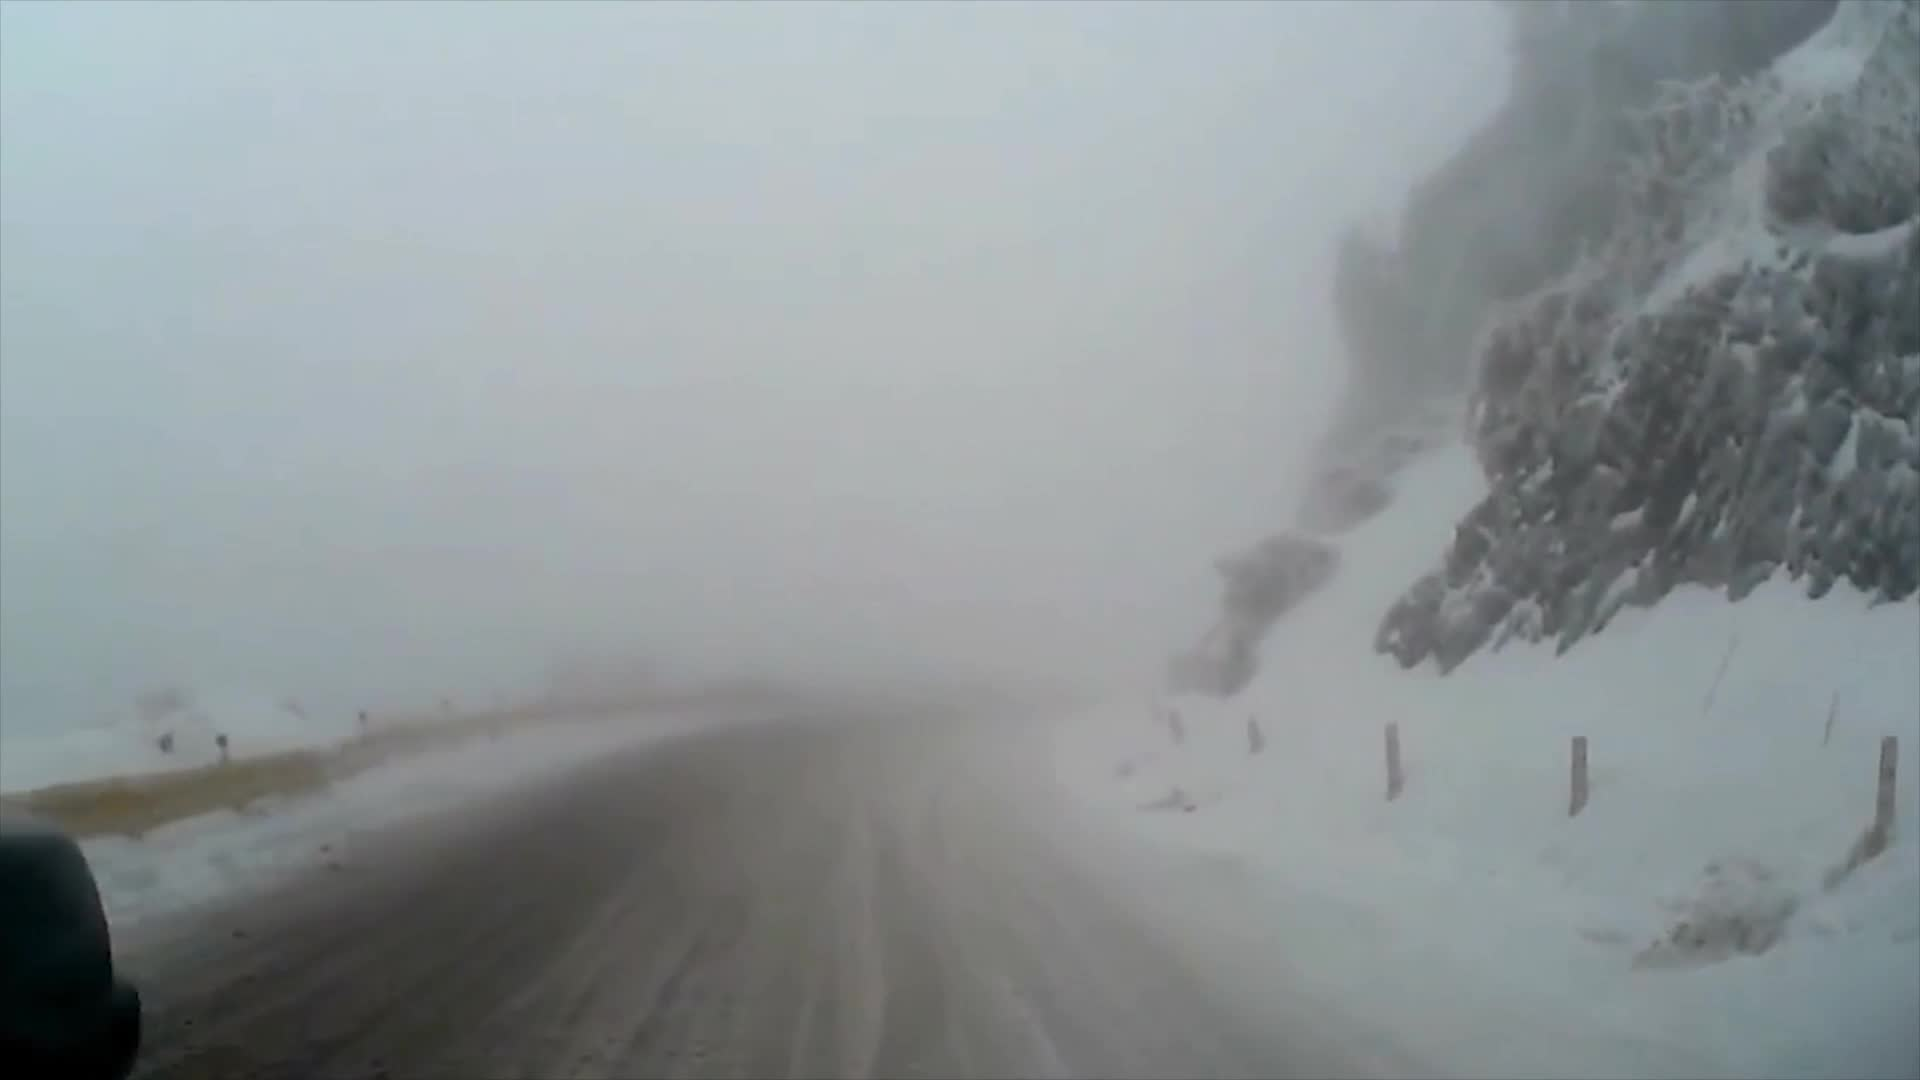vehicle: (0, 816, 138, 1079)
